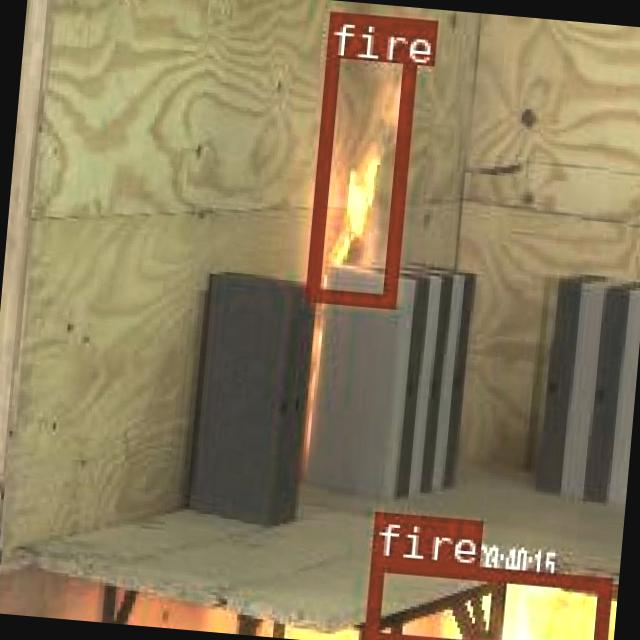fire: (304, 9, 417, 304), (363, 555, 608, 640)
